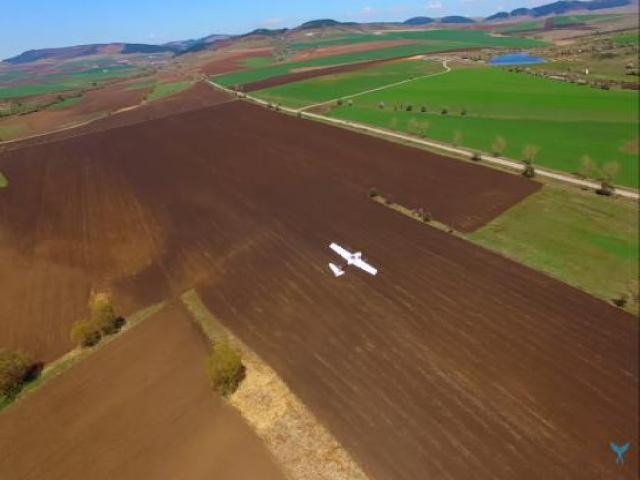uav: (321, 235, 382, 287)
